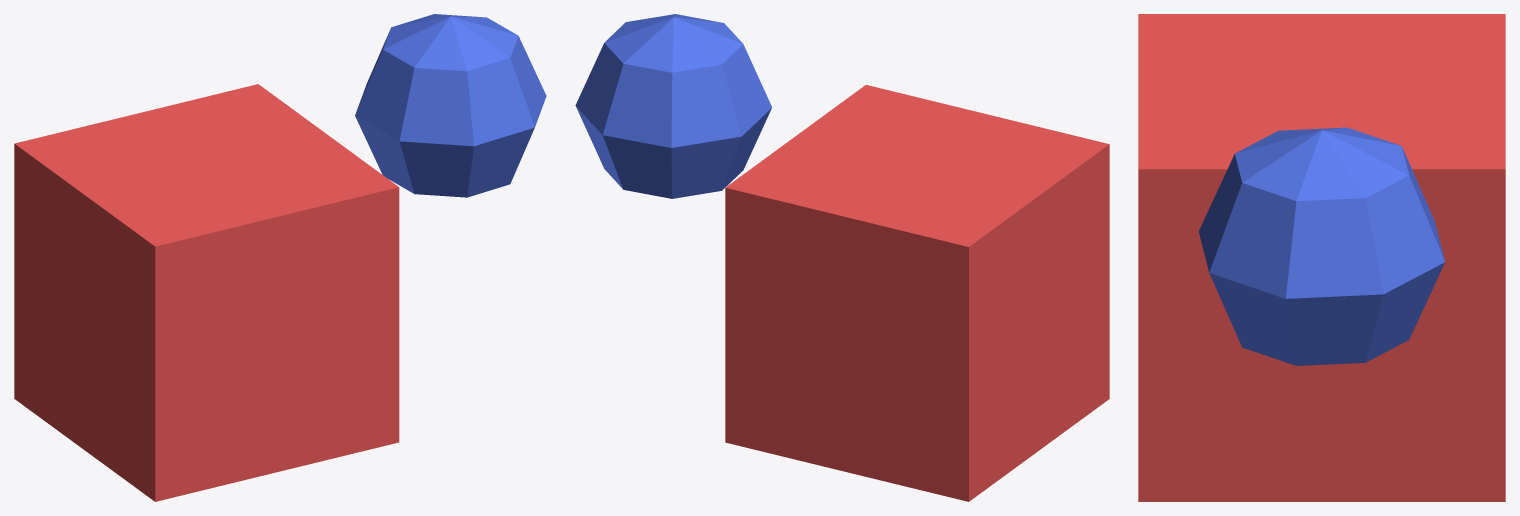
The model's file is join_and_separate.out_joined.glb.
3 renders of one model, left to right at view 1: azimuth 30°, elevation 25°; view 2: azimuth 150°, elevation 25°; view 3: azimuth 270°, elevation 25°, orthographic. The views are drawn at different scales.
Visible parts, largest first — view 1: Cube; view 2: Cube; view 3: Cube.
Part boxes in pixels (x1=…): Cube: x1=14, y1=14, x2=546, y2=501; Cube: x1=575, y1=14, x2=1109, y2=501; Cube: x1=1138, y1=14, x2=1505, y2=501.
Size of the model in its own units: 3.67 by 2.7 by 2.
